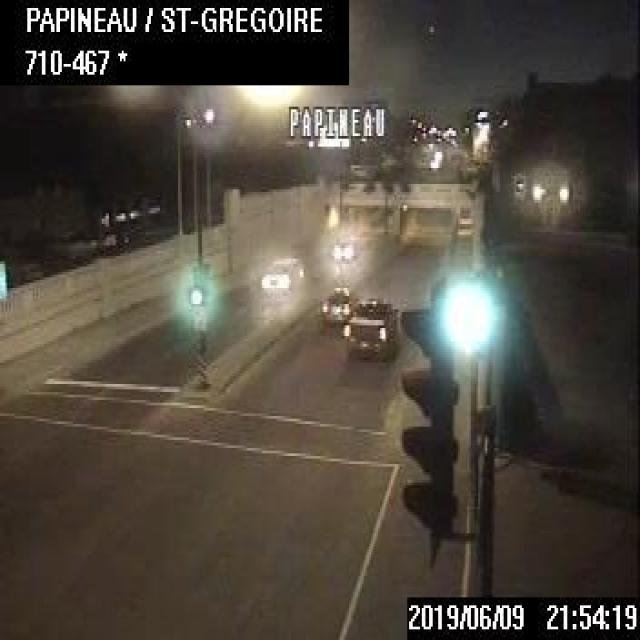vehicle: (340, 296, 395, 358), (258, 253, 302, 291), (318, 285, 348, 320), (329, 232, 351, 256)
